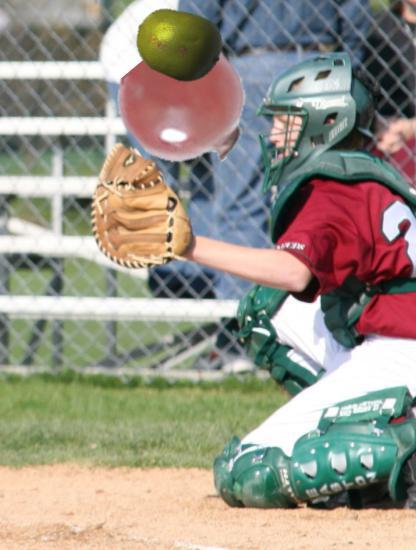Pomelo: (135, 0, 223, 88)
Redcurrant: (123, 43, 252, 172)
